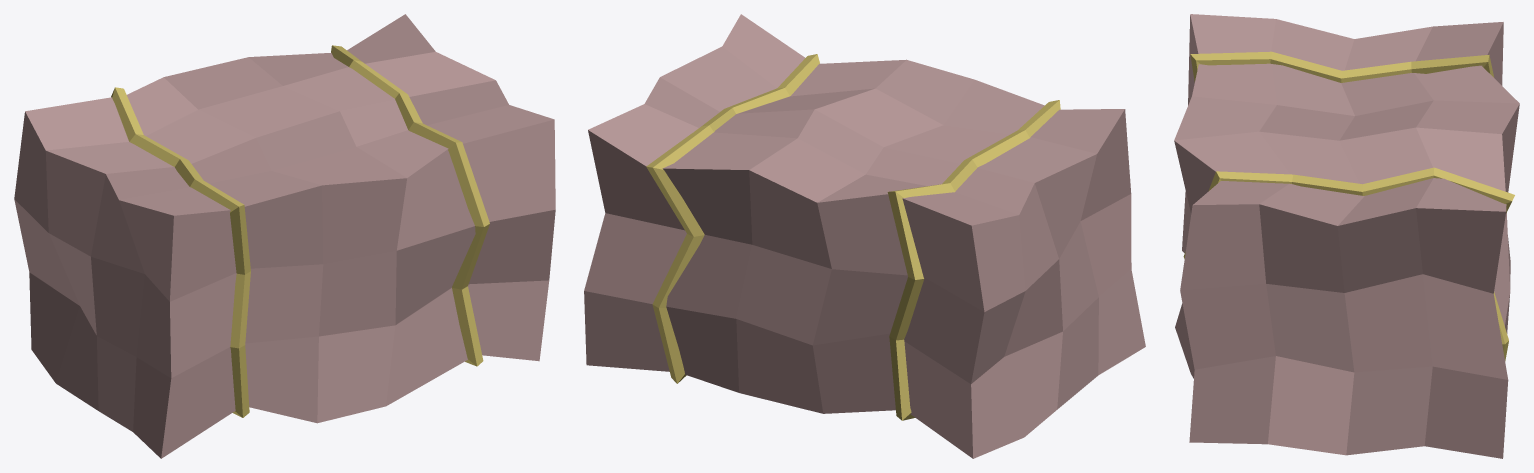
File: fp_hay.glb
The picture shows the model from 3 angles, left to right: view 1: azimuth 30°, elevation 25°; view 2: azimuth 150°, elevation 25°; view 3: azimuth 270°, elevation 25°; orthographic projection. The views are drawn at different scales.
Bounding box in the file's own units: 0.4112 × 0.2446 × 0.2892.
